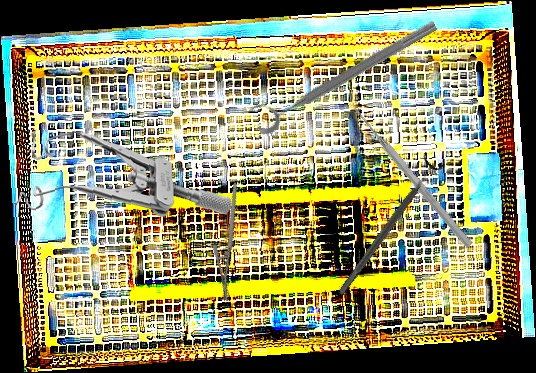Fixation Ring: (245, 5, 442, 138), (329, 150, 447, 302)
Needle Holder: (188, 181, 274, 304)
Pusher: (350, 104, 475, 250)
Speculum: (10, 121, 232, 225)
